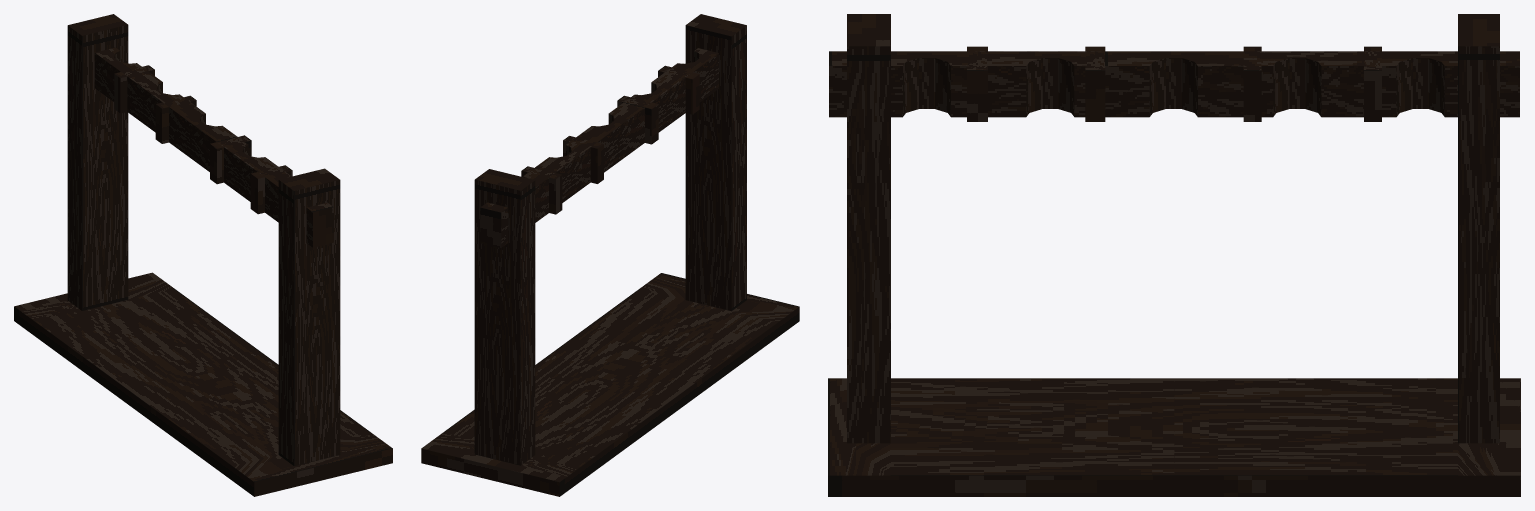
File: Soporte-armas (1).glb
3 views of the same model, side by side, from view 1: azimuth 30°, elevation 25°; view 2: azimuth 150°, elevation 25°; view 3: azimuth 270°, elevation 25° (orthographic). The views are drawn at different scales.
Parts seen in each view (by area): view 1: basesoporte-col, soporte-col; view 2: basesoporte-col, soporte-col; view 3: basesoporte-col, soporte-col.
Part boxes in pixels (x1,y1,x2,y2): basesoporte-col: (14,14,392,496); soporte-col: (94,47,333,247); basesoporte-col: (421,14,799,496); soporte-col: (480,48,718,247); basesoporte-col: (828,14,1520,496); soporte-col: (829,46,1519,121).
Size of the model in its own units: 0.4652 by 0.9306 by 1.4.
Materials: 1 (1 with a texture image).
